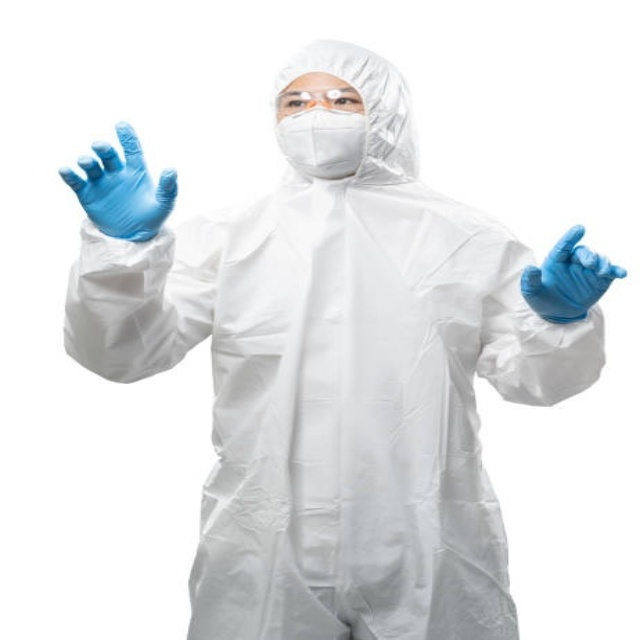Gafas: (278, 88, 364, 114)
Guantes: (59, 120, 178, 243), (520, 223, 628, 324)
Mascara: (275, 108, 369, 178)
